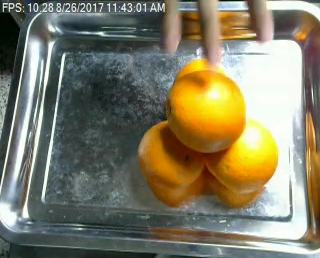Orange: (166, 70, 246, 152), (204, 120, 280, 191), (136, 120, 205, 190)
